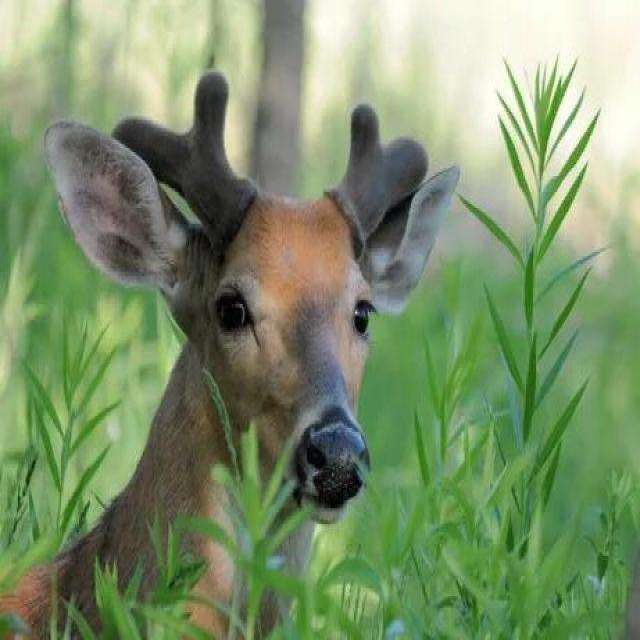deer: (52, 56, 466, 603)
